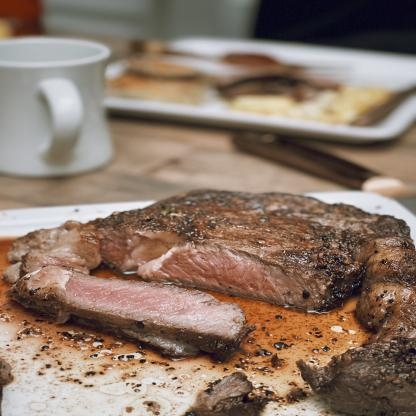Carne: (93, 188, 416, 298), (15, 252, 254, 352)
